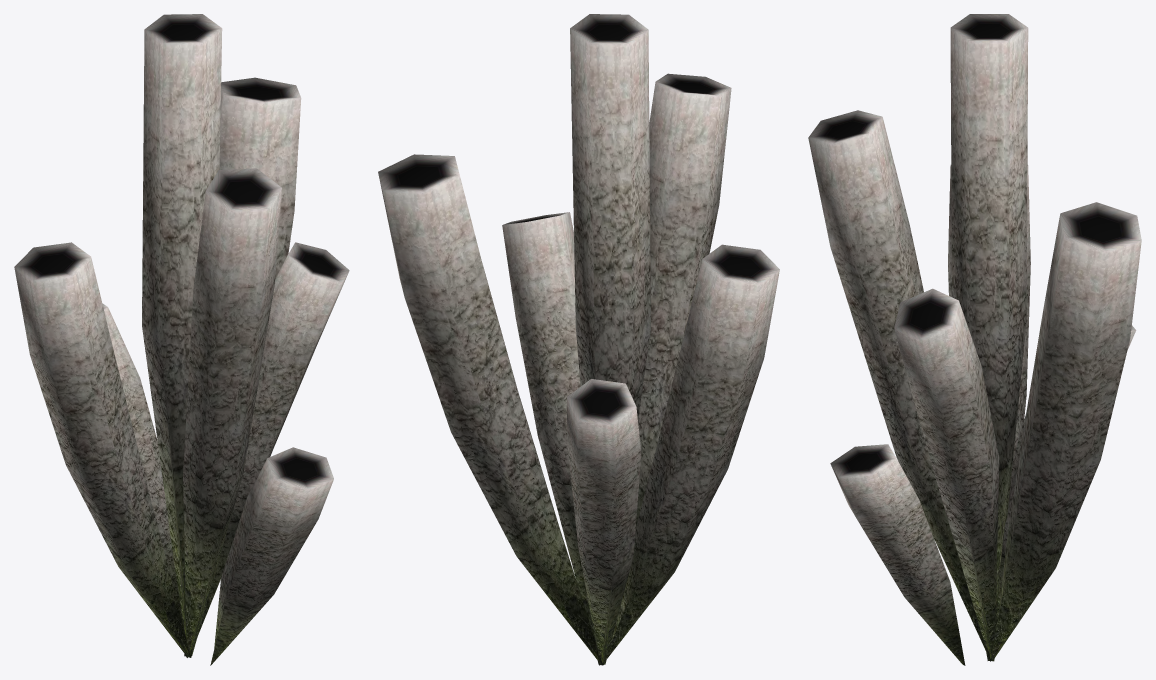
Rendered from FingerSponge02-transformed.glb.
3 views of the same model, side by side, from view 1: azimuth 30°, elevation 25°; view 2: azimuth 150°, elevation 25°; view 3: azimuth 270°, elevation 25° (orthographic).
Visible parts, largest first — view 1: FingerSponge02; view 2: FingerSponge02; view 3: FingerSponge02.
Part boxes in pixels (x1=…): FingerSponge02: x1=14, y1=14, x2=349, y2=665; FingerSponge02: x1=378, y1=14, x2=779, y2=665; FingerSponge02: x1=808, y1=14, x2=1141, y2=665.
Size of the model in its own units: 1.43 by 2.61 by 1.25.
Materials: 1 (1 with a texture image).
